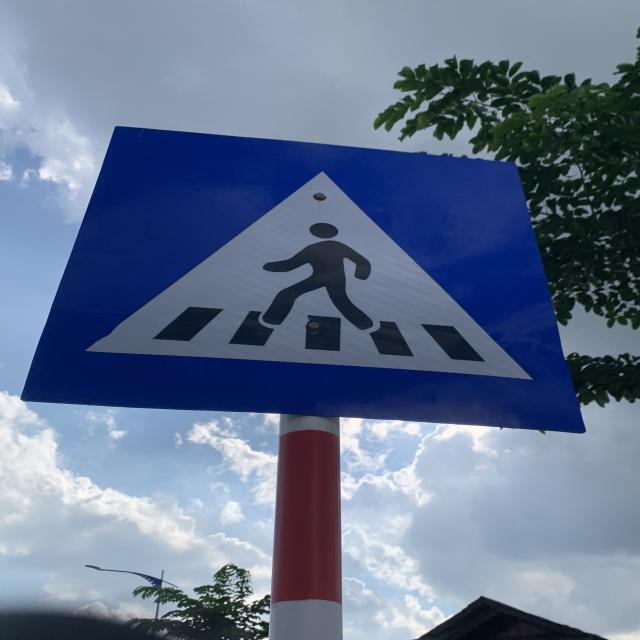Giao_Nhau_Duong_Uu_Tien: (20, 124, 590, 434)
